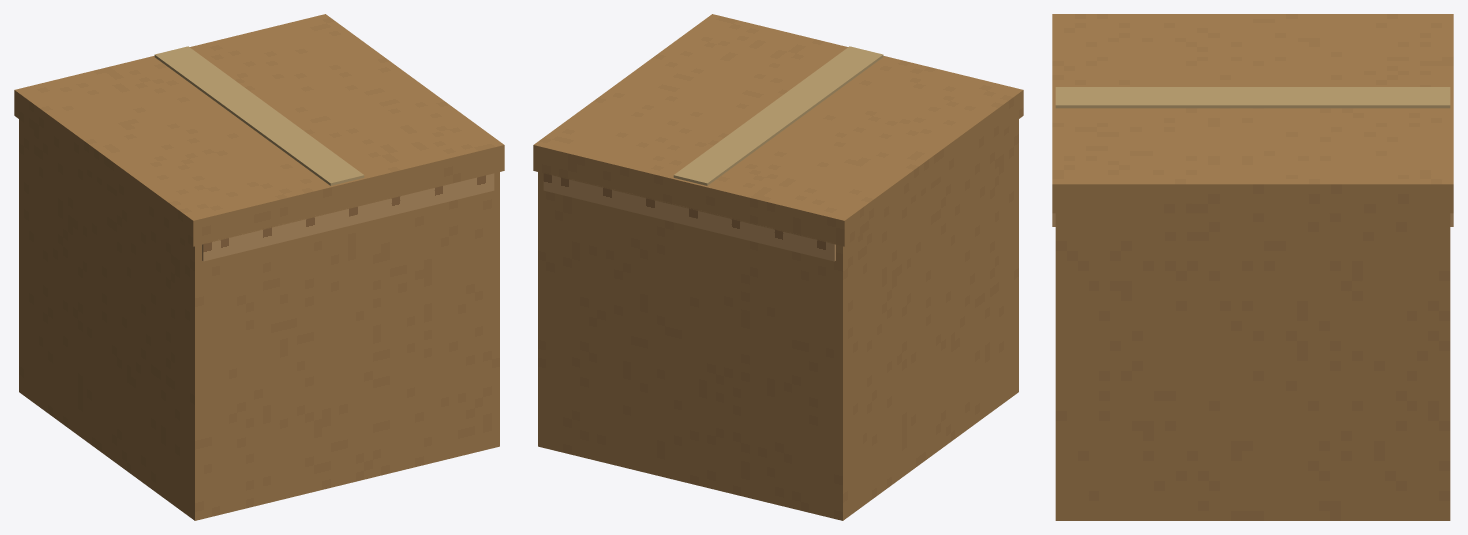
Rendered from f_cardboard_box_large_reinforced.glb.
3 views of the same model, side by side, from view 1: azimuth 30°, elevation 25°; view 2: azimuth 150°, elevation 25°; view 3: azimuth 270°, elevation 25° (orthographic). The views are drawn at different scales.
Visible parts, largest first — view 1: block_container, block_lid, block_packing-tape, block_double-wall-fold; view 2: block_container, block_lid, block_packing-tape, block_double-wall-fold; view 3: block_container, block_lid, block_packing-tape.
Boxes of the visible parts, x1,y1,x2,y2 form: block_container: [19, 119, 499, 520]; block_lid: [14, 14, 504, 246]; block_packing-tape: [154, 46, 364, 185]; block_double-wall-fold: [202, 173, 494, 261]; block_container: [538, 119, 1018, 520]; block_lid: [533, 14, 1023, 246]; block_packing-tape: [673, 46, 883, 185]; block_double-wall-fold: [543, 173, 835, 261]; block_container: [1055, 213, 1450, 520]; block_lid: [1052, 14, 1453, 213]; block_packing-tape: [1055, 87, 1450, 108].
Bounding box in the file's own units: 0.755 × 0.706 × 0.752.
Materials: 1 (1 with a texture image).
